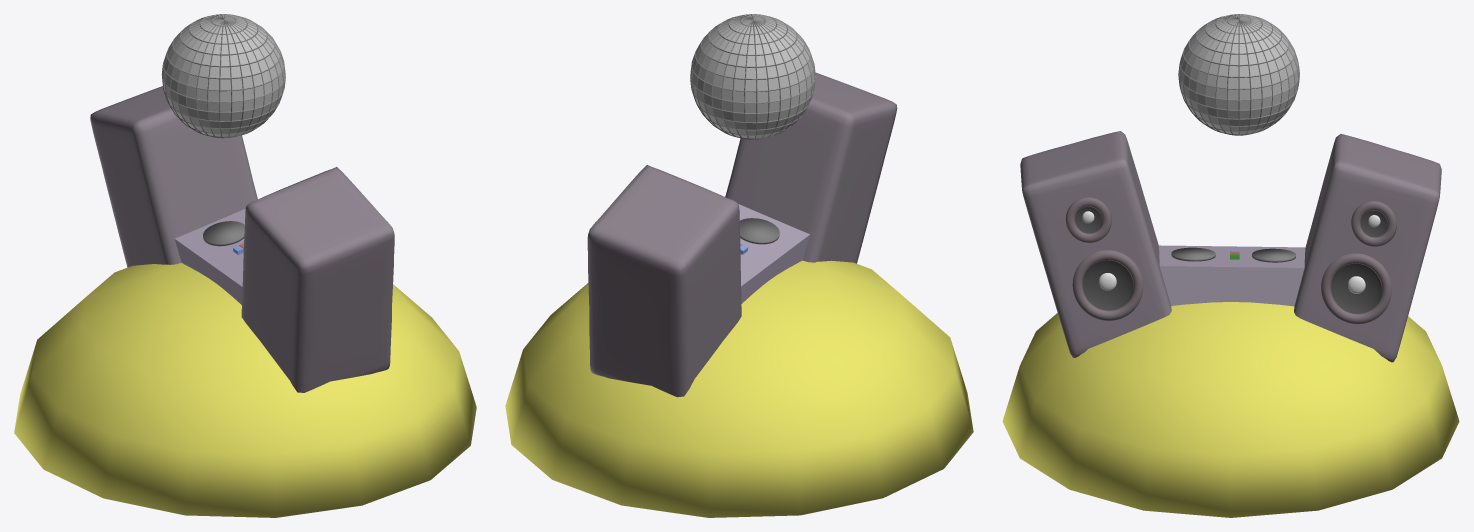
The model's file is IslaDisco.fbx.
3 renders of one model, left to right at view 1: azimuth 30°, elevation 25°; view 2: azimuth 150°, elevation 25°; view 3: azimuth 270°, elevation 25°, orthographic. The views are drawn at different scales.
Visible parts, largest first — view 1: Rhythim Cove; view 2: Rhythim Cove; view 3: Rhythim Cove.
Part boxes in pixels (x1=…): Rhythim Cove: x1=14, y1=14, x2=476, y2=517; Rhythim Cove: x1=505, y1=14, x2=973, y2=517; Rhythim Cove: x1=1002, y1=14, x2=1459, y2=517.
Size of the model in its own units: 257 by 244 by 257.
